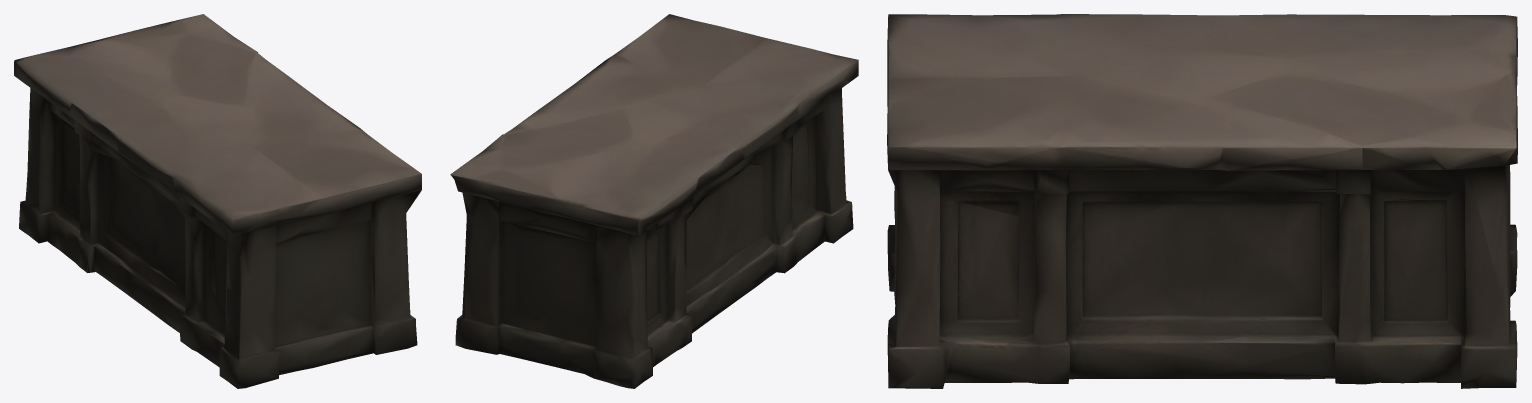
File: wooden_desk_long.glb
The picture shows the model from 3 angles, left to right: view 1: azimuth 30°, elevation 25°; view 2: azimuth 150°, elevation 25°; view 3: azimuth 270°, elevation 25°; orthographic projection. The views are drawn at different scales.
Visible parts, largest first — view 1: tripo_node_1ed7eade-61ac-4976-9995-6134ae93ae4b; view 2: tripo_node_1ed7eade-61ac-4976-9995-6134ae93ae4b; view 3: tripo_node_1ed7eade-61ac-4976-9995-6134ae93ae4b.
Boxes of the visible parts, x1,y1,x2,y2 form: tripo_node_1ed7eade-61ac-4976-9995-6134ae93ae4b: [14, 14, 421, 388]; tripo_node_1ed7eade-61ac-4976-9995-6134ae93ae4b: [450, 14, 858, 388]; tripo_node_1ed7eade-61ac-4976-9995-6134ae93ae4b: [887, 14, 1517, 388].
Bounding box in the file's own units: 0.5029 × 0.437 × 1.
1 material, 1 textured.
